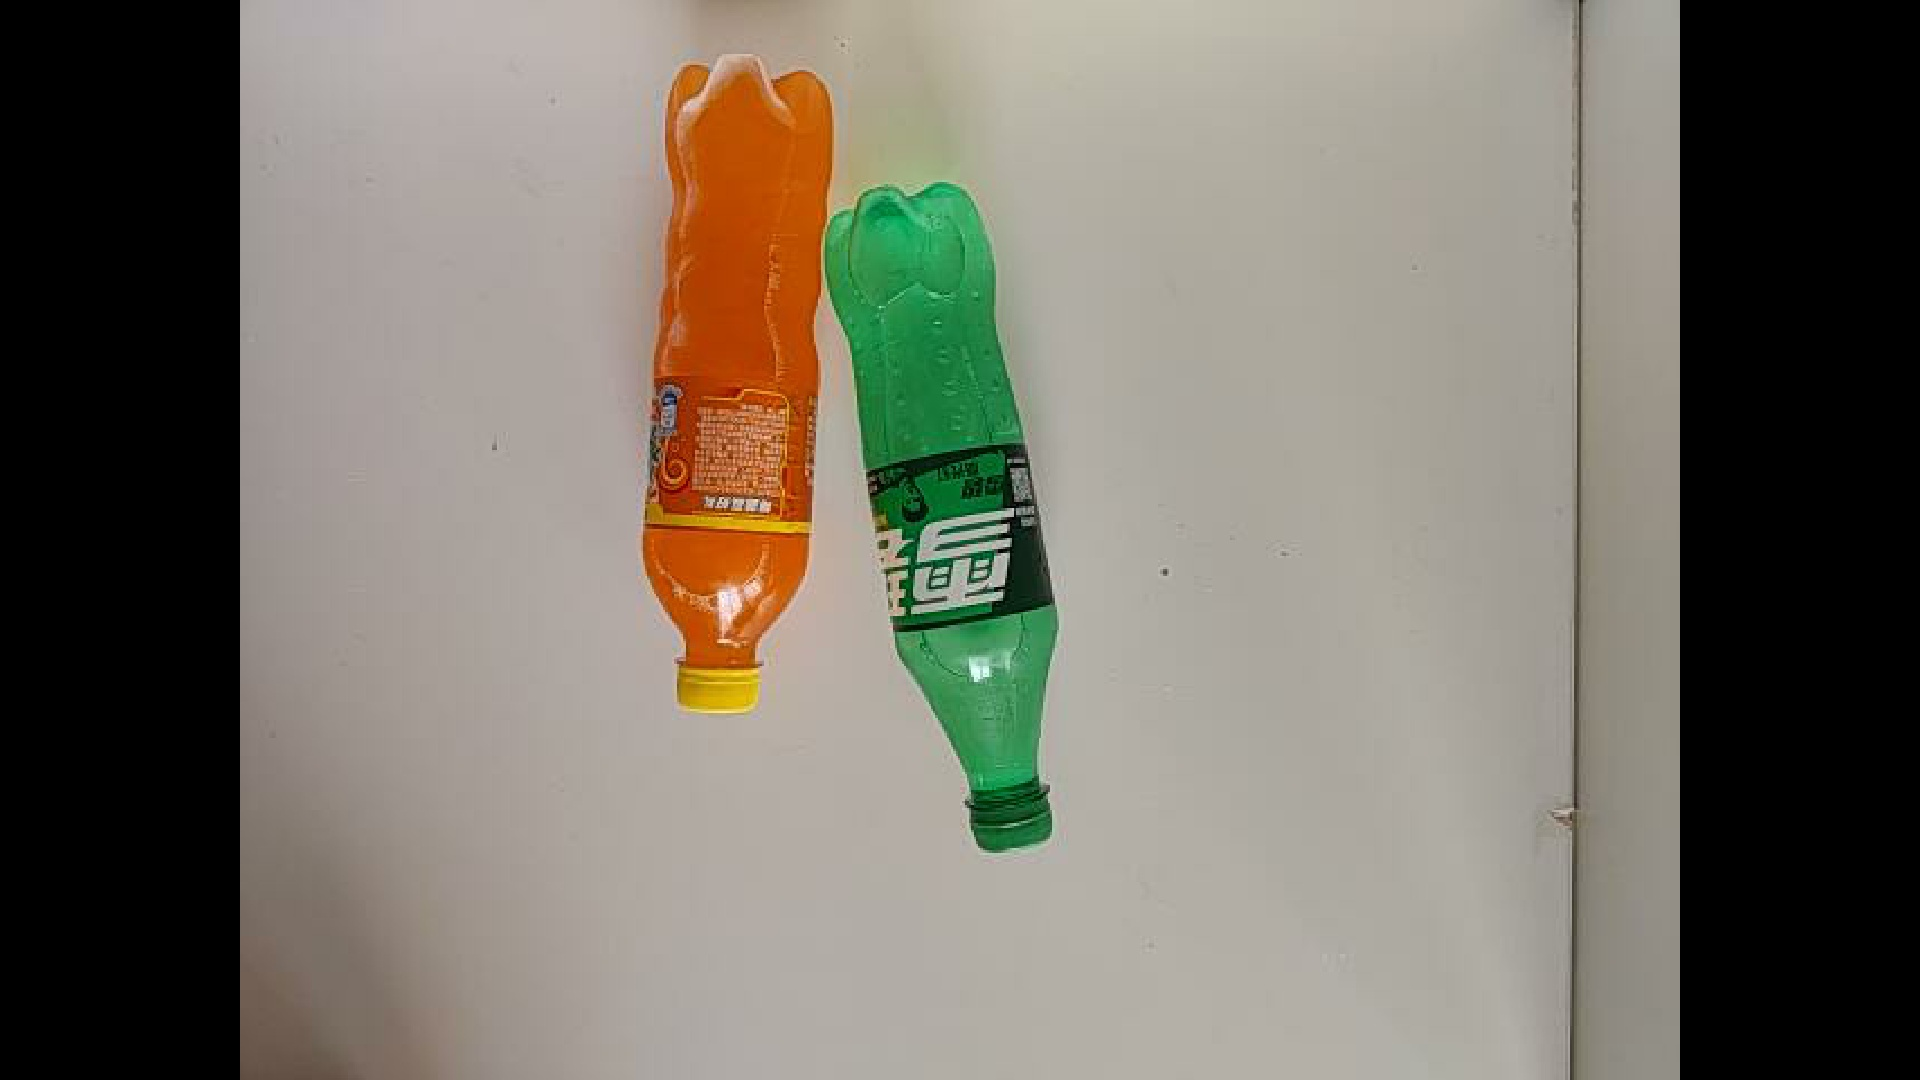fenta: (629, 50, 872, 720)
sprite: (724, 167, 1097, 856)
